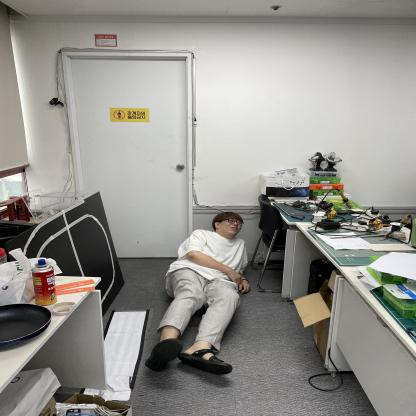fall: (158, 208, 254, 376)
